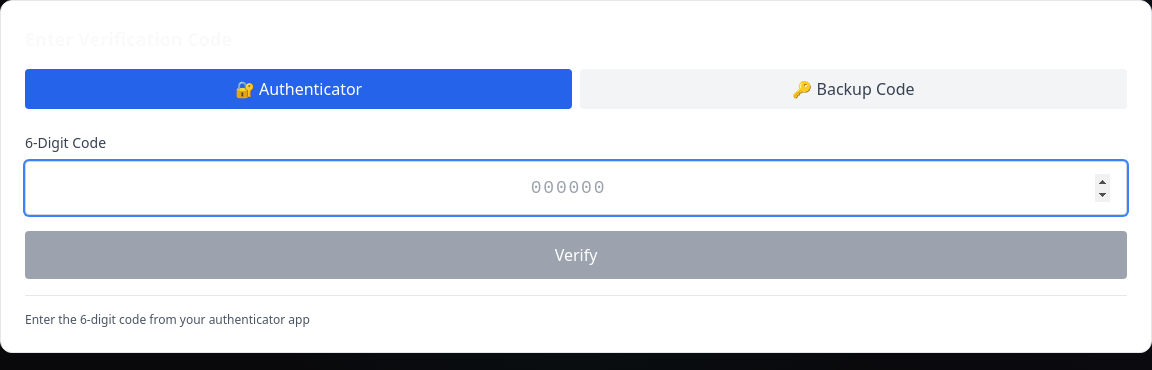
Test case: VerifyCodeInput Component › Submit Button › should be enabled when input has content
In the number field with placeholder "000000": point(576, 188) x1=25 y1=161 x2=1127 y2=215, type "123456"
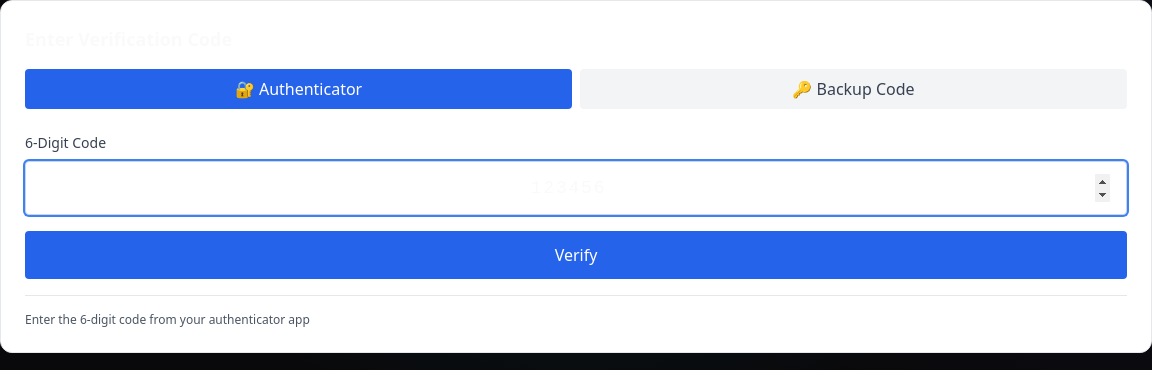
Expected: the button "Verify" is enabled, x1=25 y1=231 x2=1127 y2=279
